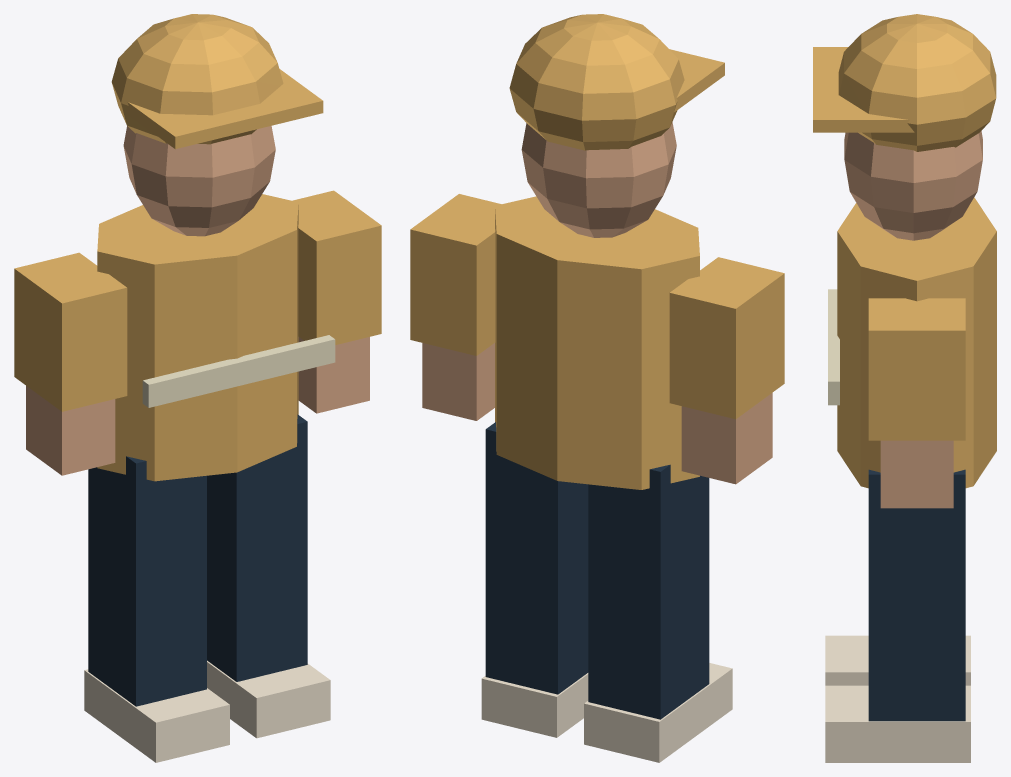
File: character-dock-worker.obj
The picture shows the model from 3 angles, left to right: view 1: azimuth 30°, elevation 25°; view 2: azimuth 150°, elevation 25°; view 3: azimuth 270°, elevation 25°; orthographic projection.
Parts seen in each view (by area): view 1: character-dock-worker; view 2: character-dock-worker; view 3: character-dock-worker.
Part boxes in pixels (x1,y1,x2,y2): character-dock-worker: [14, 14, 381, 762]; character-dock-worker: [410, 14, 784, 762]; character-dock-worker: [813, 14, 996, 762].
Bounding box in the file's own units: 1.08 × 2.22 × 0.53.
